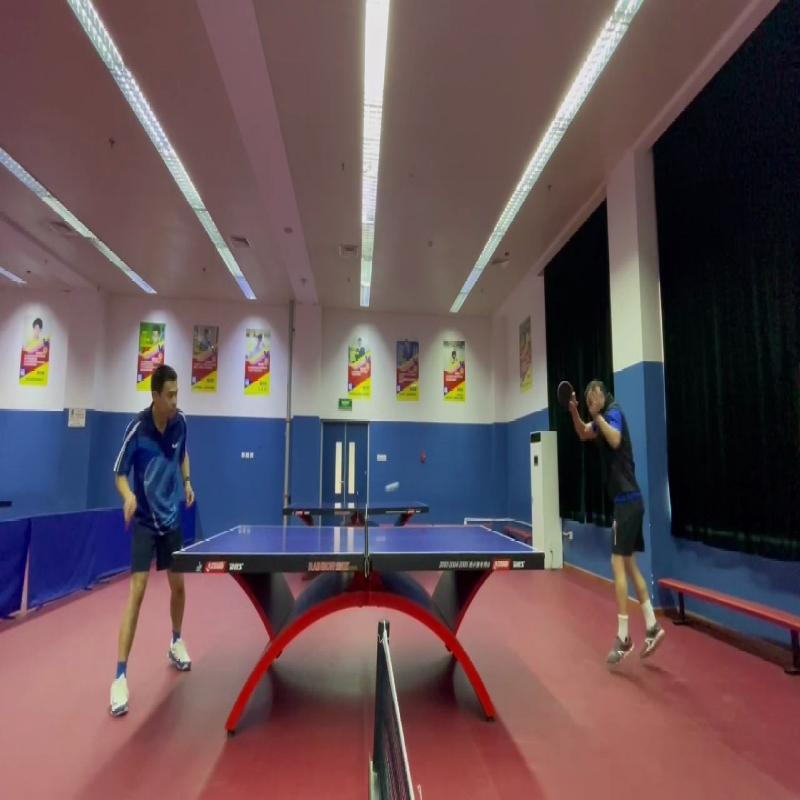bats: (116, 488, 150, 541)
